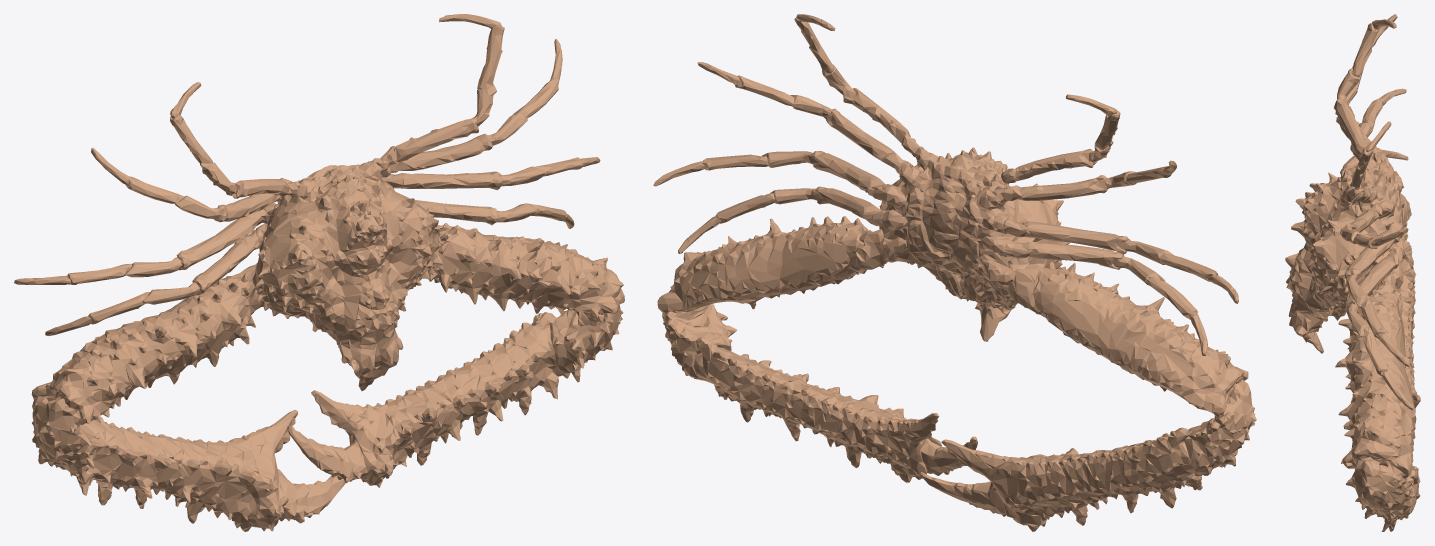
File: elbow_crab.glb
The picture shows the model from 3 angles, left to right: view 1: azimuth 30°, elevation 25°; view 2: azimuth 150°, elevation 25°; view 3: azimuth 270°, elevation 25°; orthographic projection. The views are drawn at different scales.
Bounding box in the file's own units: 173 × 130 × 38.64.
